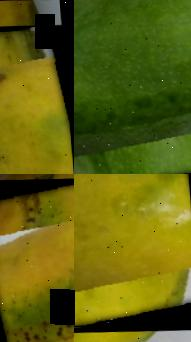PartiallyRipe: (74, 174, 191, 332)
Ripe: (0, 176, 74, 342), (0, 24, 74, 174)
Unripe: (74, 0, 191, 174)
